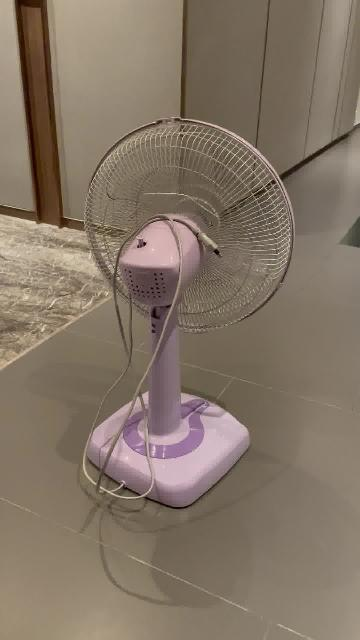Fan: (84, 118, 295, 511)
